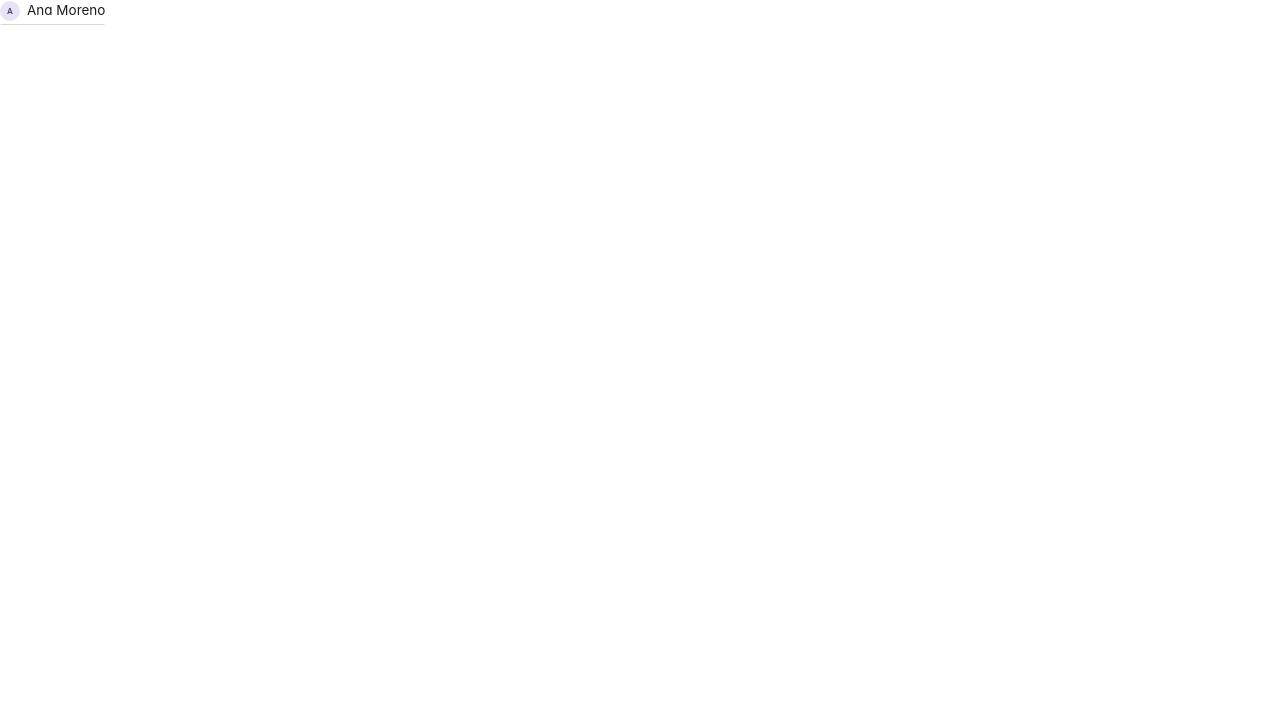
Test: PickerPopover: opening and semantics › groups are labelled groups inside the listbox
Click the button with aria-label "Assignee": [53, 11] box [0,1,106,21]
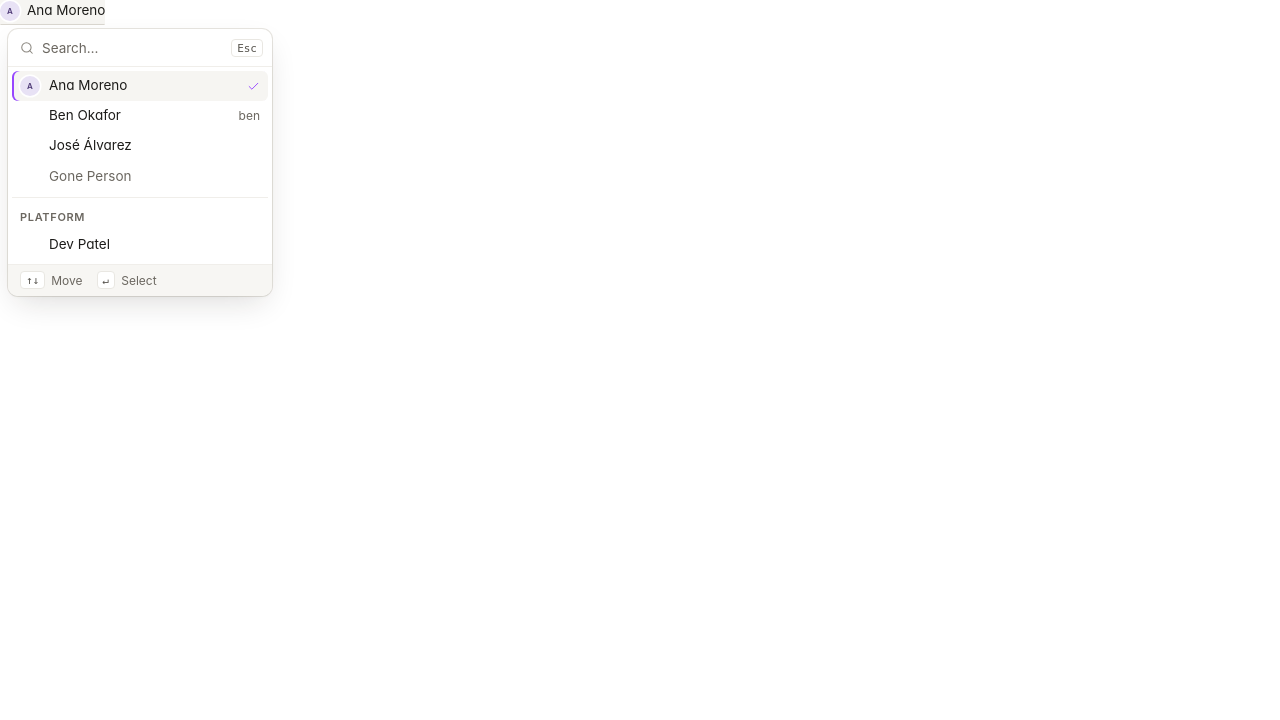
Check: the option "Dev Patel" is shown, box [49,236,110,252]
